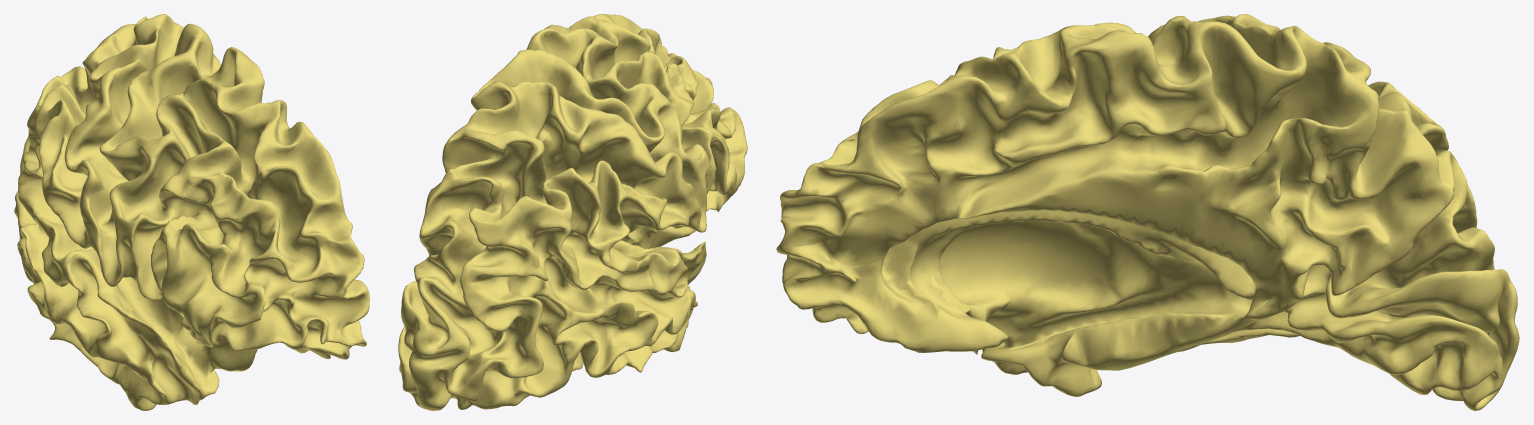
Rendered from white-matter-of-telencephalon-r.glb.
The picture shows the model from 3 angles, left to right: view 1: azimuth 30°, elevation 25°; view 2: azimuth 150°, elevation 25°; view 3: azimuth 270°, elevation 25°; orthographic projection. The views are drawn at different scales.
Parts seen in each view (by area): view 1: White matter of telencephalon.r; view 2: White matter of telencephalon.r; view 3: White matter of telencephalon.r.
Boxes of the visible parts, x1,y1,x2,y2 form: White matter of telencephalon.r: [14, 14, 369, 410]; White matter of telencephalon.r: [398, 14, 747, 410]; White matter of telencephalon.r: [776, 14, 1519, 410].
Size of the model in its own units: 0.0635 by 0.1095 by 0.1749.
